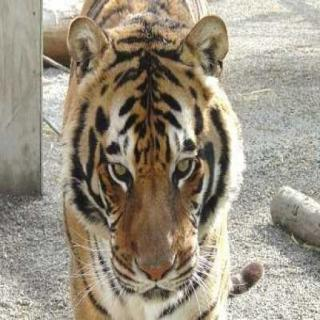Tiger: (46, 0, 272, 320)
